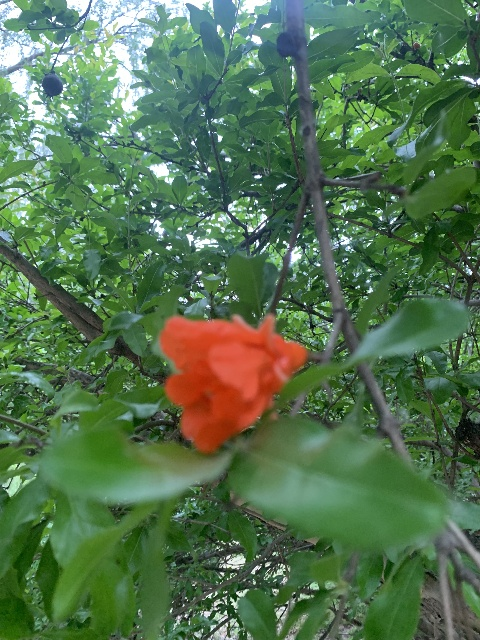flower: (159, 312, 307, 454)
